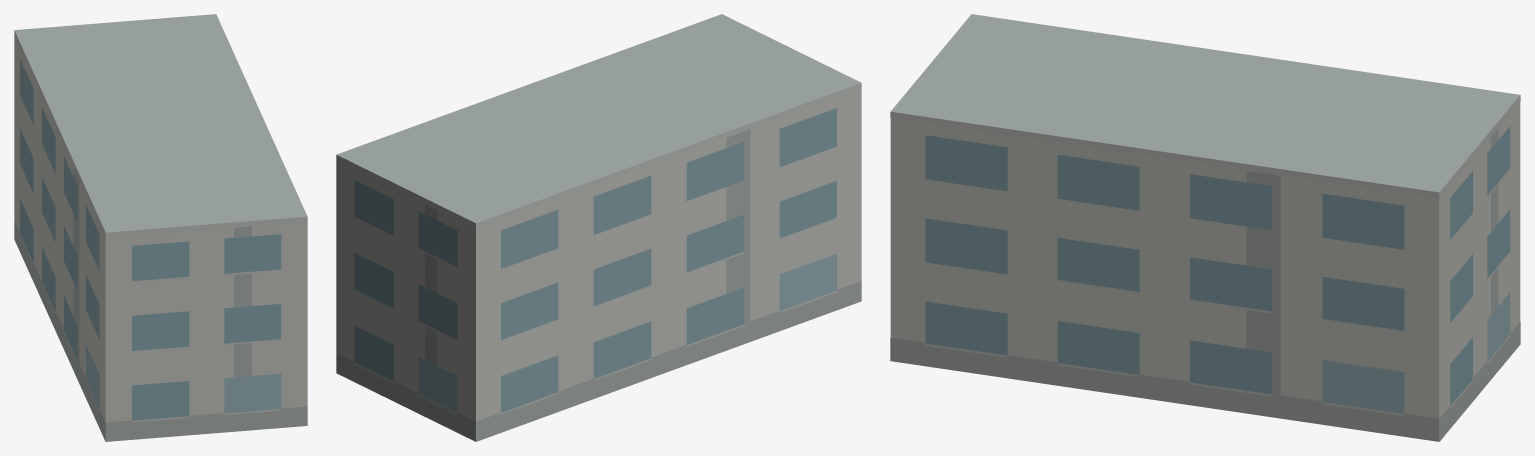
The model's file is survey-upis-32842148.glb.
The picture shows the model from 3 angles, left to right: view 1: azimuth 30°, elevation 25°; view 2: azimuth 150°, elevation 25°; view 3: azimuth 270°, elevation 25°; orthographic projection. The views are drawn at different scales.
Parts seen in each view (by area): view 1: survey-upis-32842148.tmp; view 2: survey-upis-32842148.tmp; view 3: survey-upis-32842148.tmp.
Boxes of the visible parts, x1,y1,x2,y2 form: survey-upis-32842148.tmp: [14, 14, 307, 441]; survey-upis-32842148.tmp: [336, 14, 861, 441]; survey-upis-32842148.tmp: [890, 14, 1520, 441].
Size of the model in its own units: 14.05 by 9.15 by 20.95.
